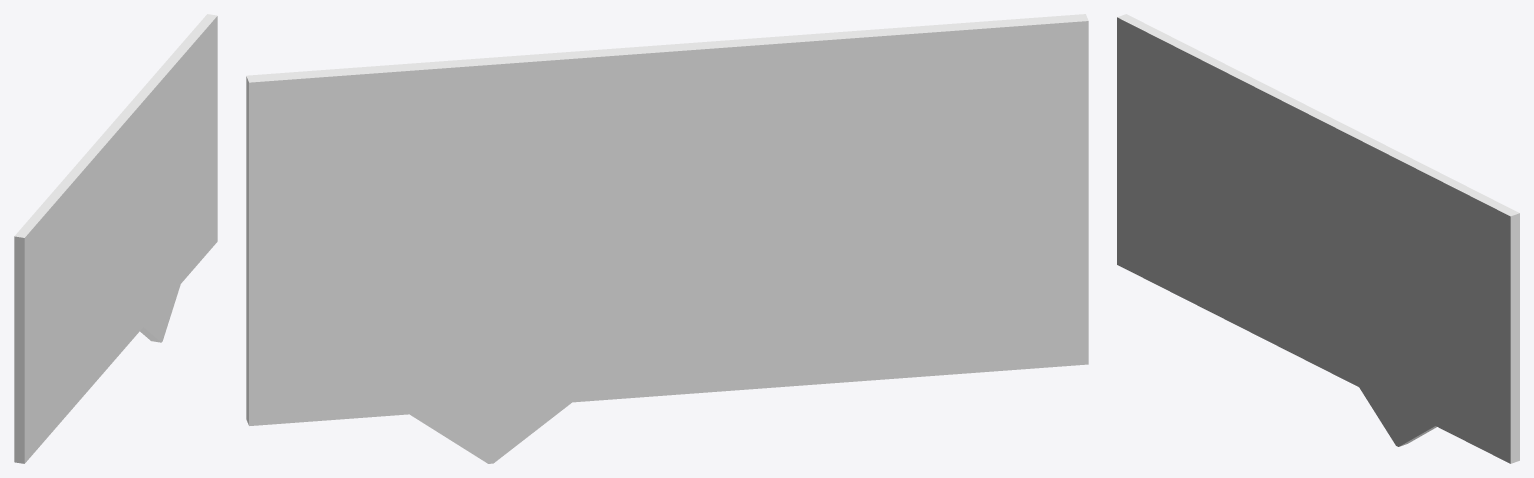
File: sign6.glb
3 views of the same model, side by side, from view 1: azimuth 30°, elevation 25°; view 2: azimuth 150°, elevation 25°; view 3: azimuth 270°, elevation 25° (orthographic). The views are drawn at different scales.
Visible parts, largest first — view 1: sign_6_sezeni; view 2: sign_6_sezeni; view 3: sign_6_sezeni.
Part boxes in pixels (left/top/right/bottom): sign_6_sezeni: left=14, top=14, right=217, bottom=463; sign_6_sezeni: left=246, top=14, right=1088, bottom=463; sign_6_sezeni: left=1117, top=14, right=1519, bottom=463.
Bounding box in the file's own units: 1.24 × 0.8188 × 1.04.
Materials: 1 (1 with a texture image).
